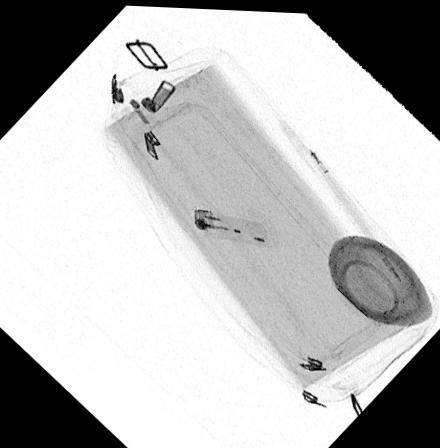Lighter: (192, 206, 269, 245)
